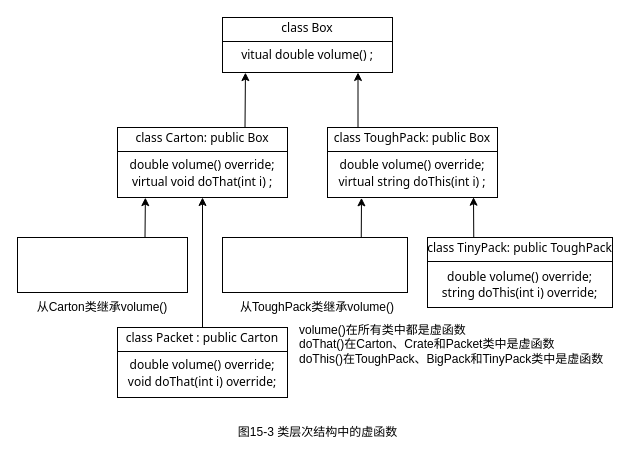
Some shapes in this 630 by 465 pixel diagram are drawn without their labels. Here are the shapes that lost their labels. From the top down, the centre of each, then its label:
At [102,264]: "class Packet : public Carton void doThat(int i) override;".
At [315,264]: "class BigPack : public ToughPack string doThis(int i) override;".
